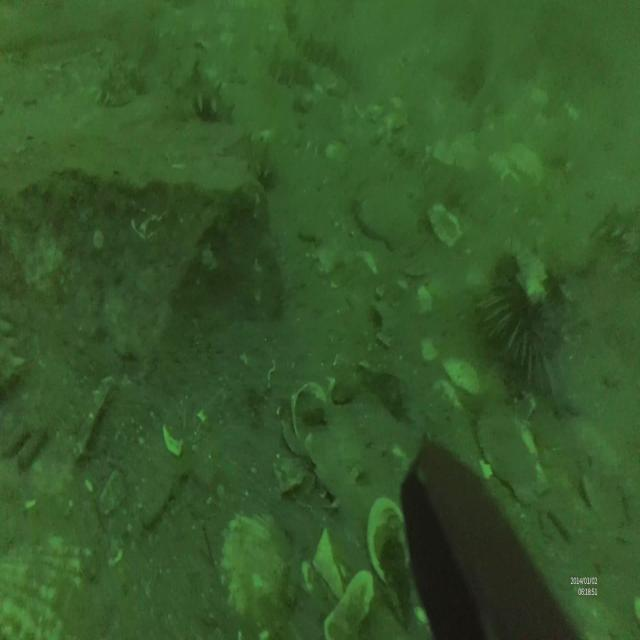echinus: (479, 248, 576, 392)
holothurian: (178, 68, 236, 124), (222, 138, 279, 194), (296, 25, 353, 80), (266, 49, 317, 93), (20, 421, 54, 474), (1, 316, 22, 390), (99, 71, 134, 109), (1, 419, 31, 451)
scallop: (221, 510, 287, 618), (442, 353, 487, 399)
